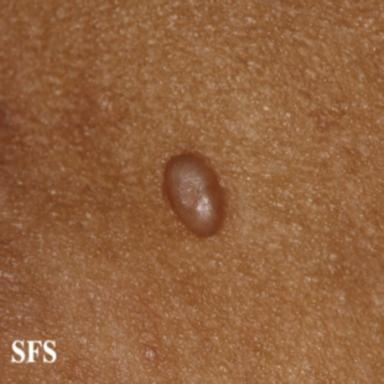Molluscum-Contagiosum: (164, 154, 223, 235)
